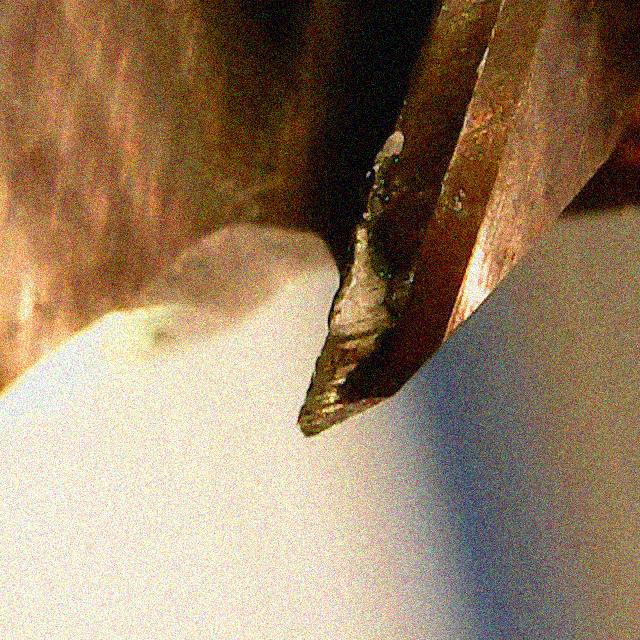Tool-wear-class-2: (289, 211, 456, 445)
